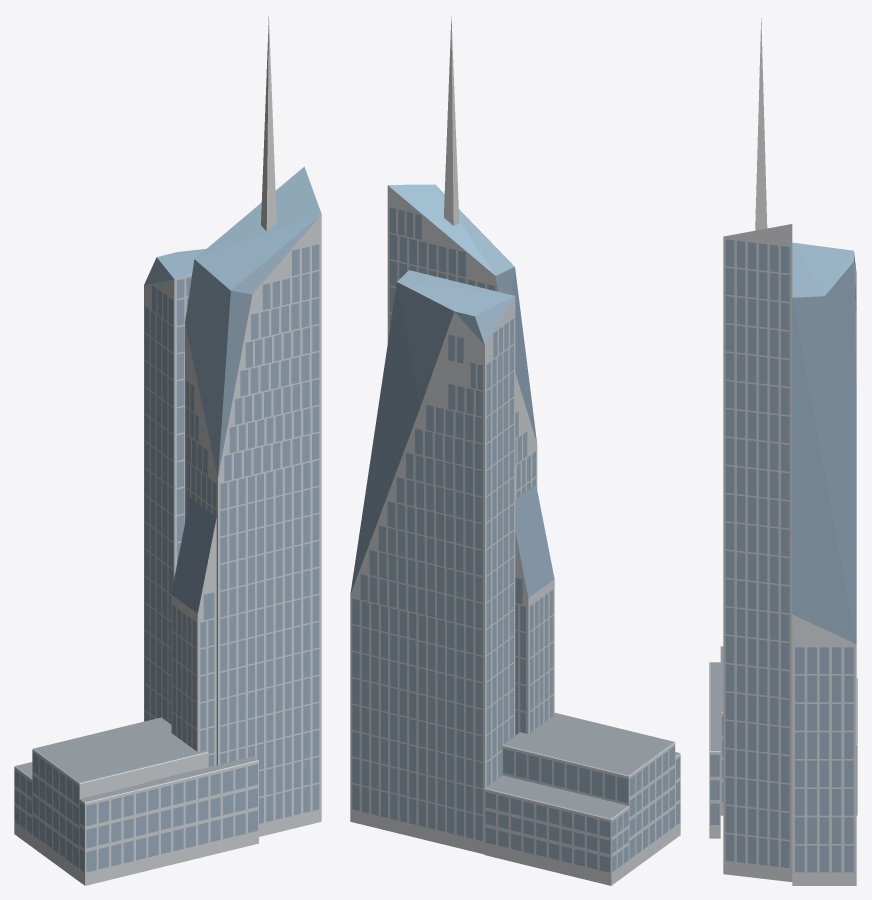
Rendered from nyc-bank-of-america-tower.glb.
The picture shows the model from 3 angles, left to right: view 1: azimuth 30°, elevation 25°; view 2: azimuth 150°, elevation 25°; view 3: azimuth 270°, elevation 25°; orthographic projection. The views are drawn at different scales.
Visible parts, largest first — view 1: Bank of America Tower; view 2: Bank of America Tower; view 3: Bank of America Tower.
Part boxes in pixels (left/top/right/bottom): Bank of America Tower: left=14, top=16, right=321, bottom=885; Bank of America Tower: left=350, top=15, right=680, bottom=885; Bank of America Tower: left=709, top=18, right=857, bottom=885.
Bounding box in the file's own units: 127 × 366 × 58.6.
